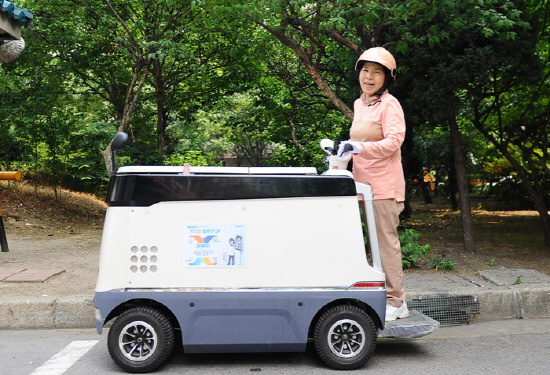Yakurut: (349, 50, 427, 320)
